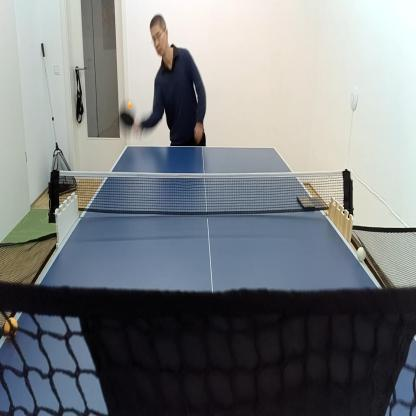Ball: (5, 316, 17, 336), (358, 246, 366, 261), (128, 101, 132, 109)
